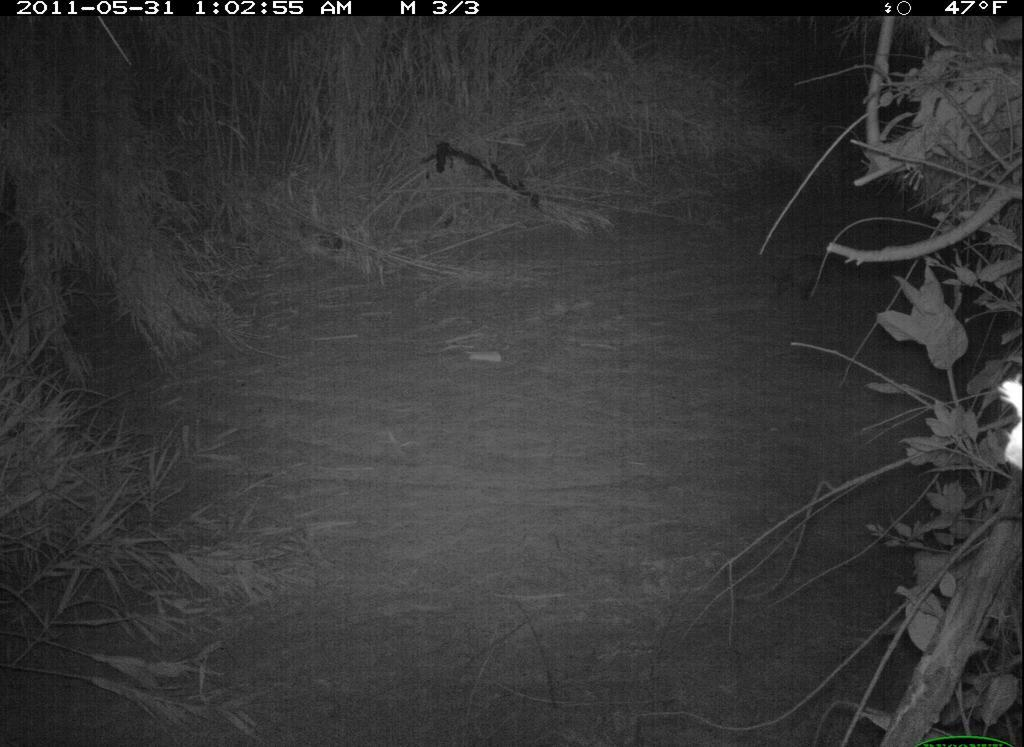opossum: (737, 234, 874, 325)
